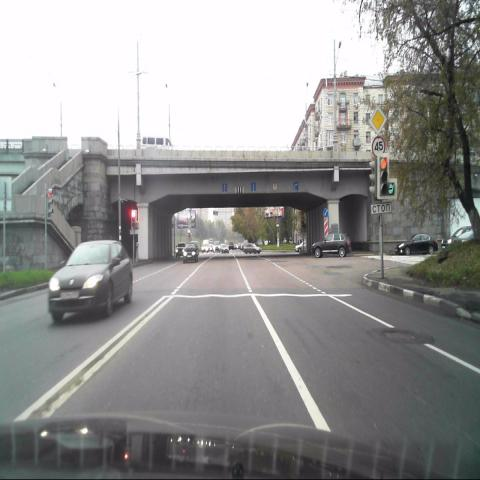3_13: (371, 135, 385, 158)
